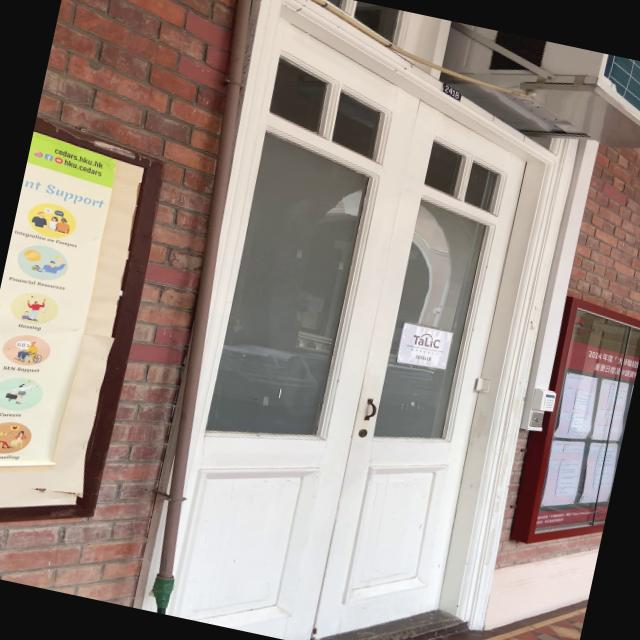room241b: (438, 80, 465, 103)
